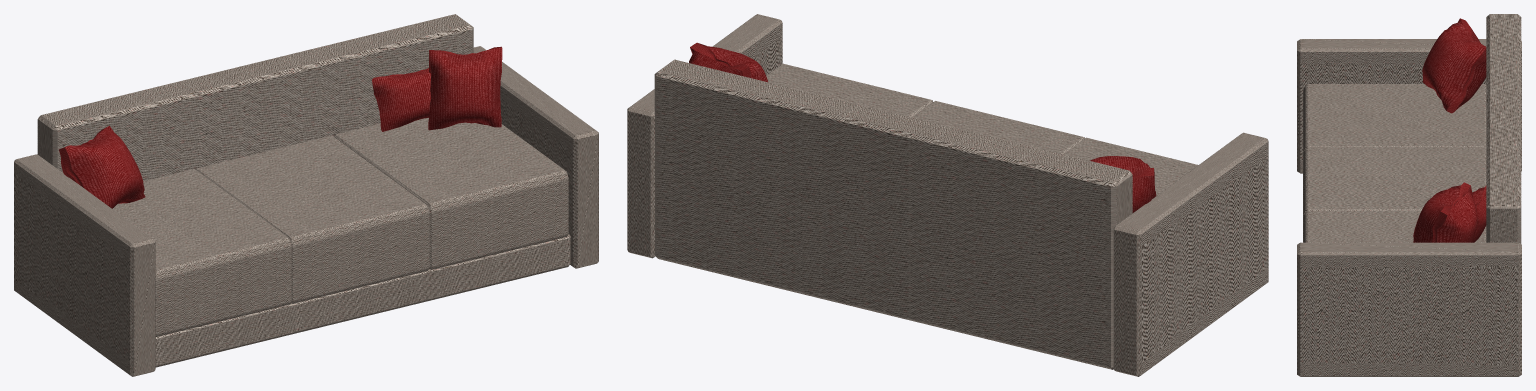
The model's file is couch.fbx.
3 renders of one model, left to right at view 1: azimuth 30°, elevation 25°; view 2: azimuth 150°, elevation 25°; view 3: azimuth 270°, elevation 25°, orthographic. The views are drawn at different scales.
Visible parts, largest first — view 1: pCube4, pCube7, pCube5, pCube8, pCube6, pCube1, pCube3, polySurface94, polySurface95, pillow:polySurface94; view 2: pCube4, pCube5, pCube3, pCube7, pCube8, pCube6, polySurface94, polySurface95; view 3: pCube3, pCube6, pCube7, pCube4, pCube5, polySurface95, pCube8, polySurface94, pillow:polySurface94.
Part boxes in pixels (x1,y1,x2,y2): pCube4: (37,14,473,181); pCube7: (195,135,429,303); pCube5: (14,154,155,376); pCube8: (334,118,568,269); pCube6: (112,169,291,336); pCube1: (155,234,570,367); pCube3: (473,46,598,268); polySurface94: (428,46,502,130); polySurface95: (59,125,145,208); pillow:polySurface94: (372,68,431,131); pCube4: (654,59,1132,369); pCube5: (1113,132,1268,376); pCube3: (627,14,782,258); pCube7: (913,101,1084,154); pCube8: (766,63,932,117); pCube6: (1064,137,1198,195); polySurface94: (689,42,767,82); polySurface95: (1090,156,1156,212); pCube3: (1297,242,1521,376); pCube6: (1303,84,1486,153); pCube7: (1303,147,1486,216); pCube4: (1486,14,1521,243); pCube5: (1297,39,1521,173); polySurface95: (1422,18,1486,113); pCube8: (1303,211,1486,242); polySurface94: (1413,182,1477,242); pillow:polySurface94: (1472,185,1486,242).
Size of the model in its own units: 219 by 76.63 by 96.84.
